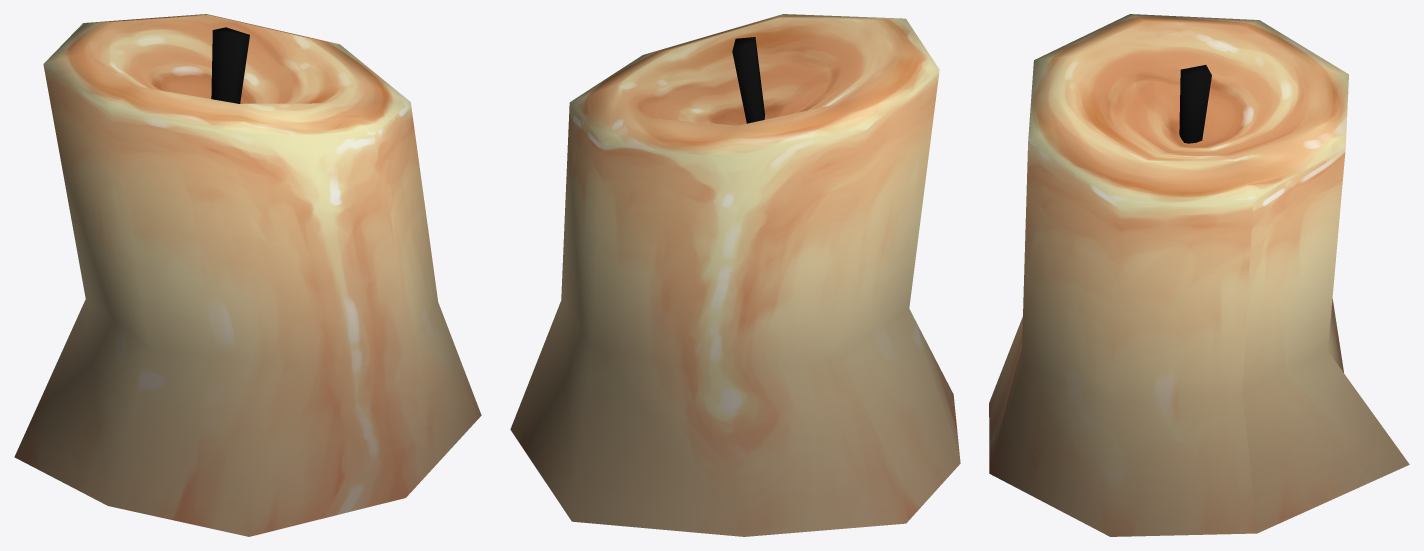
Rendered from SM_PROP_candle_02.fbx.
The picture shows the model from 3 angles, left to right: view 1: azimuth 30°, elevation 25°; view 2: azimuth 150°, elevation 25°; view 3: azimuth 270°, elevation 25°; orthographic projection. The views are drawn at different scales.
Visible parts, largest first — view 1: SM_PROP_candle_02; view 2: SM_PROP_candle_02; view 3: SM_PROP_candle_02.
Part boxes in pixels (x1=…): SM_PROP_candle_02: x1=14, y1=14, x2=481, y2=536; SM_PROP_candle_02: x1=510, y1=14, x2=960, y2=536; SM_PROP_candle_02: x1=989, y1=14, x2=1409, y2=536.
Size of the model in its own units: 17.59 by 17.25 by 17.55.
